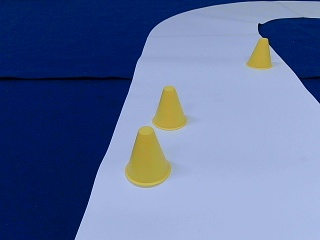cone: (126, 128, 172, 186), (153, 86, 187, 129), (246, 38, 271, 68)
